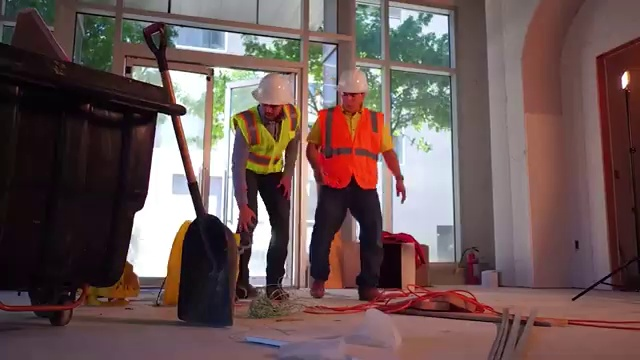helmet: (247, 69, 302, 103), (325, 65, 388, 93)
jacket: (318, 105, 388, 188), (227, 105, 300, 181)
